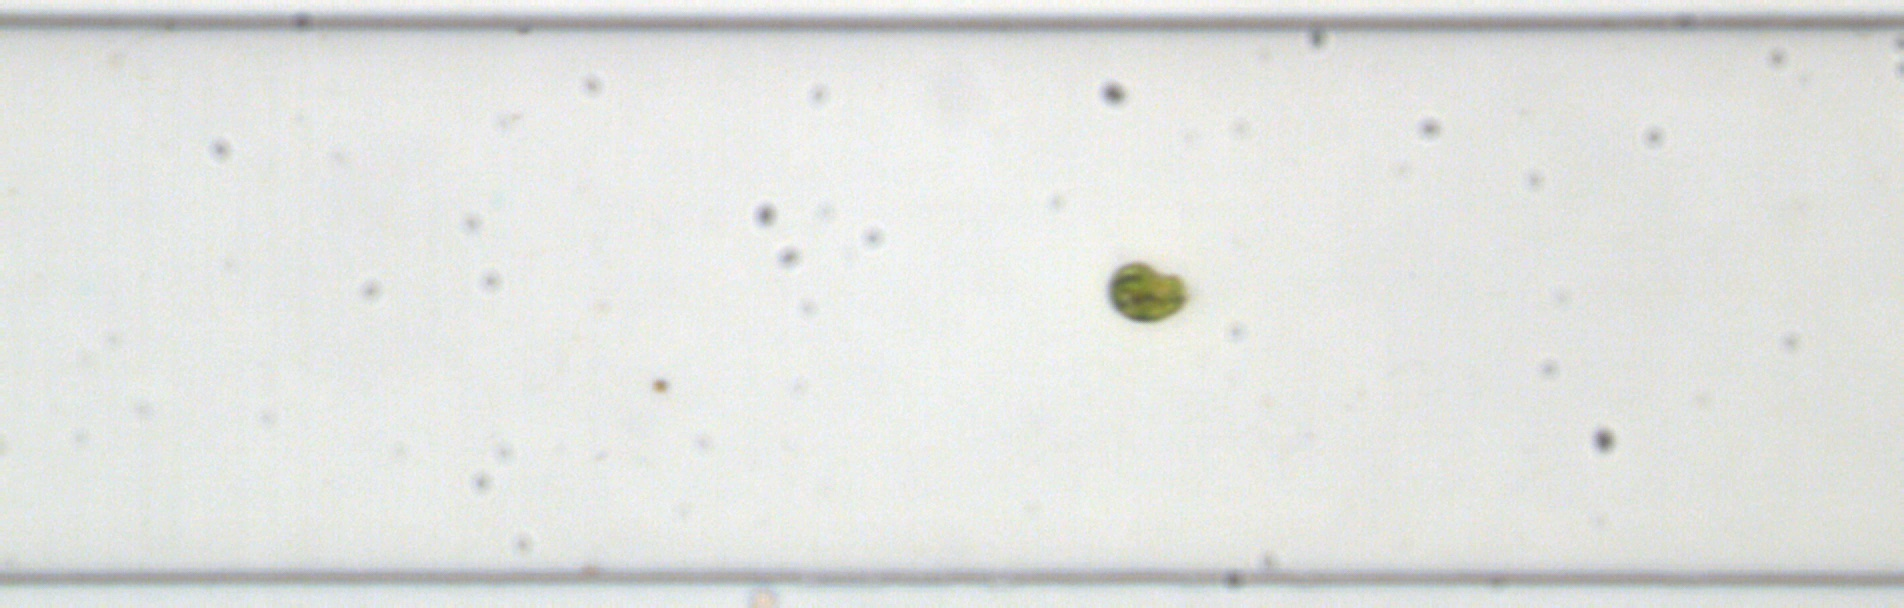Chlorella: (651, 376, 670, 394)
Haematococcus: (1107, 258, 1185, 324)
